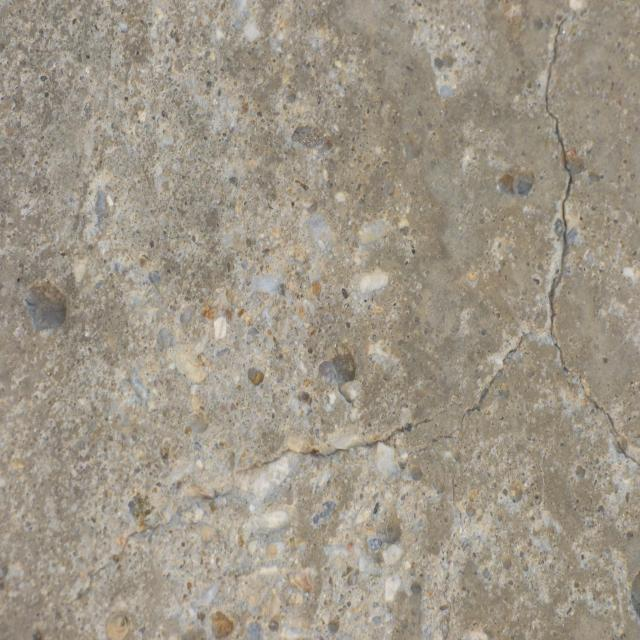concrete spalling: (237, 448, 306, 546), (23, 279, 69, 332), (316, 352, 357, 390), (495, 162, 535, 198)
multi-branched crack: (57, 0, 640, 640)
